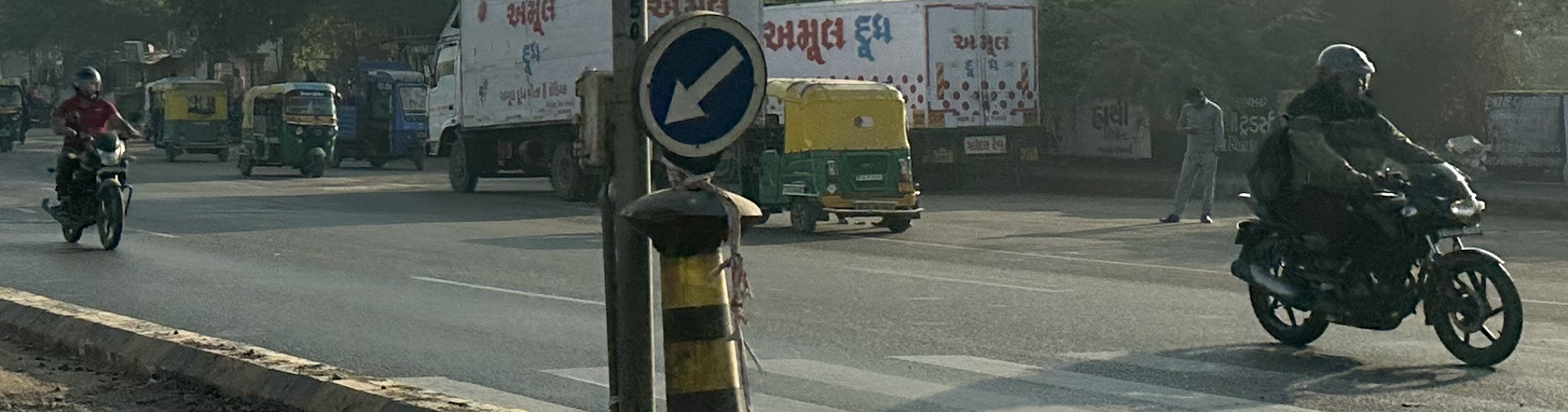BikeWithRider: (1208, 36, 1535, 382), (31, 49, 146, 263)
Helmet: (1302, 35, 1386, 115), (66, 62, 108, 101)
